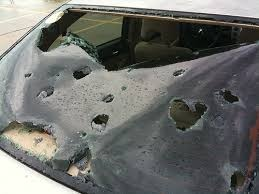Broken-glass: (35, 7, 242, 174)
